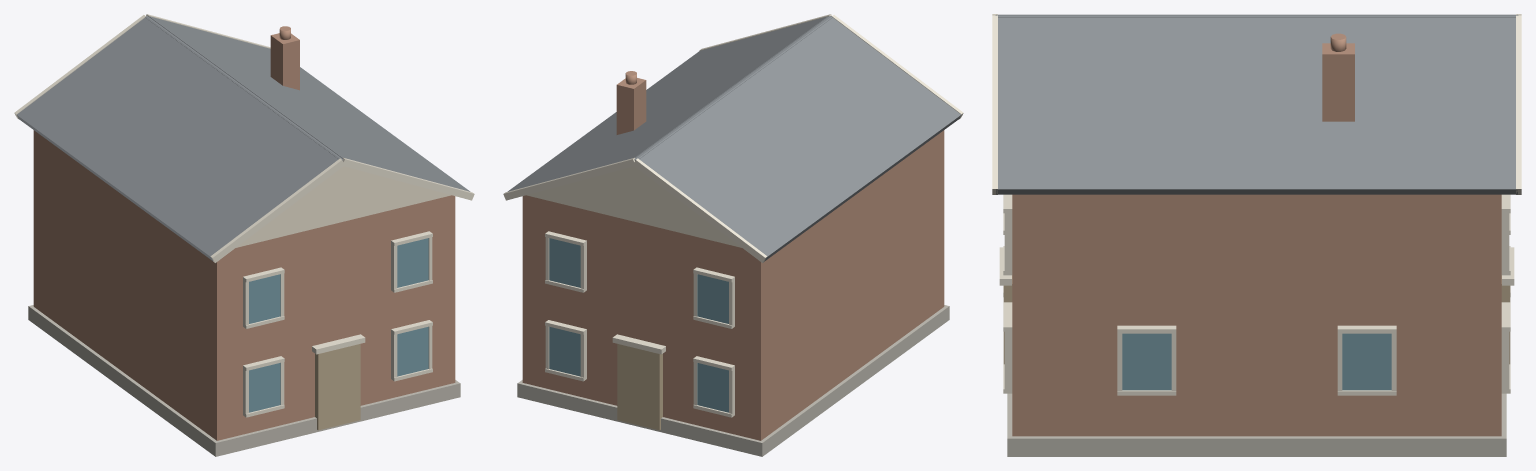
The model's file is tyne-brick-house_lod1.glb.
3 views of the same model, side by side, from view 1: azimuth 30°, elevation 25°; view 2: azimuth 150°, elevation 25°; view 3: azimuth 270°, elevation 25° (orthographic). The views are drawn at different scales.
Parts seen in each view (by area): view 1: RF_Body, RF_Roof.001, RF_Roof, RF_Foundation, RF_Gable, RF_Door.001, RF_Vergeband.001, RF_Chimney, RF_Window.004, RF_Window.001, RF_Window.002, RF_Window.003 (+4 smaller); view 2: RF_Body, RF_Roof.001, RF_Roof, RF_Foundation, RF_Gable.001, RF_Door, RF_Chimney, RF_Vergeband.002, RF_Window.008, RF_Window.005, RF_Window.006, RF_Window.007 (+4 smaller); view 3: RF_Body, RF_Roof, RF_Foundation, RF_Window.009, RF_Window, RF_Chimney, RF_Ridge, RF_Vergeband.003, RF_Vergeband, RF_Roof.001, RF_WindowFrame.016, RF_WindowFrame.008 (+2 smaller).
Part boxes in pixels (bbox=[...]): RF_Body: bbox=[33, 130, 455, 440]; RF_Roof.001: bbox=[17, 17, 339, 261]; RF_Roof: bbox=[148, 16, 470, 191]; RF_Foundation: bbox=[28, 305, 460, 456]; RF_Gable: bbox=[236, 166, 450, 247]; RF_Door.001: bbox=[315, 344, 360, 430]; RF_Vergeband.001: bbox=[210, 158, 344, 262]; RF_Chimney: bbox=[270, 33, 299, 90]; RF_Window.004: bbox=[397, 238, 428, 287]; RF_Window.001: bbox=[249, 363, 280, 412]; RF_Window.002: bbox=[249, 274, 280, 323]; RF_Window.003: bbox=[397, 326, 428, 376]; RF_Body: bbox=[522, 130, 944, 440]; RF_Roof.001: bbox=[638, 17, 960, 261]; RF_Roof: bbox=[507, 16, 829, 191]; RF_Foundation: bbox=[517, 305, 949, 456]; RF_Gable.001: bbox=[527, 166, 741, 247]; RF_Door: bbox=[617, 344, 662, 430]; RF_Chimney: bbox=[616, 78, 646, 134]; RF_Vergeband.002: bbox=[633, 158, 767, 262]; RF_Window.008: bbox=[549, 238, 580, 287]; RF_Window.005: bbox=[697, 363, 728, 412]; RF_Window.006: bbox=[697, 274, 728, 323]; RF_Window.007: bbox=[549, 326, 580, 376]; RF_Body: bbox=[1012, 194, 1501, 436]; RF_Roof: bbox=[996, 16, 1517, 194]; RF_Foundation: bbox=[1007, 393, 1506, 456]; RF_Window.009: bbox=[1122, 333, 1171, 390]; RF_Window: bbox=[1342, 333, 1391, 390]; RF_Chimney: bbox=[1322, 43, 1354, 121]; RF_Ridge: bbox=[995, 15, 1518, 17]; RF_Vergeband.003: bbox=[992, 15, 997, 194]; RF_Vergeband: bbox=[1516, 15, 1521, 194]; RF_Roof.001: bbox=[996, 14, 1517, 15]; RF_WindowFrame.016: bbox=[1501, 207, 1509, 275]; RF_WindowFrame.008: bbox=[1004, 207, 1012, 275].
Size of the model in its own units: 9.91 by 10.47 by 12.98.
